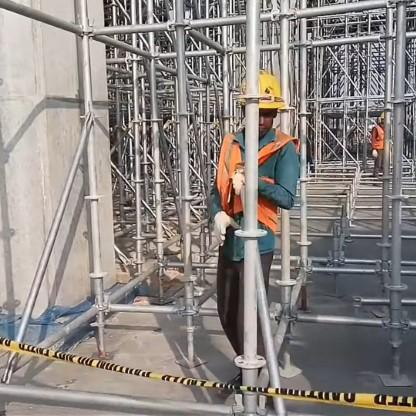helmet: (224, 69, 291, 131)
